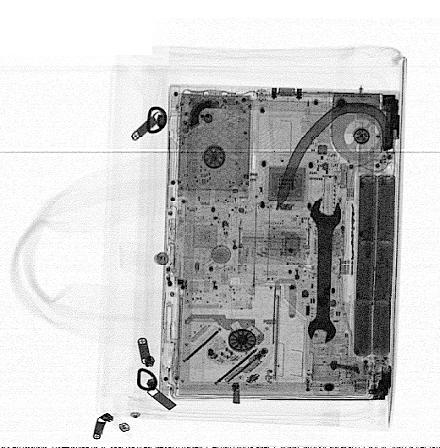Wrench: (306, 196, 343, 348)
